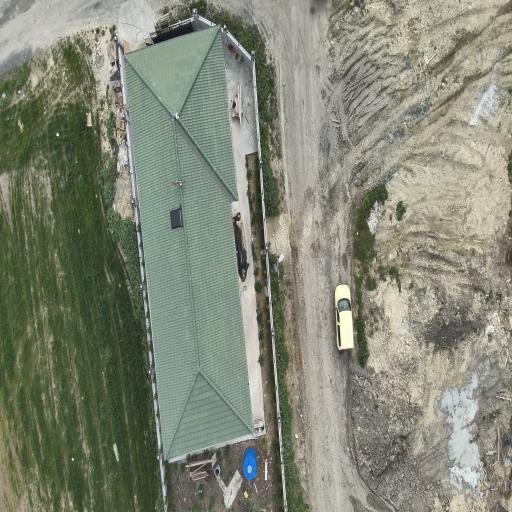car: (335, 284, 353, 350)
